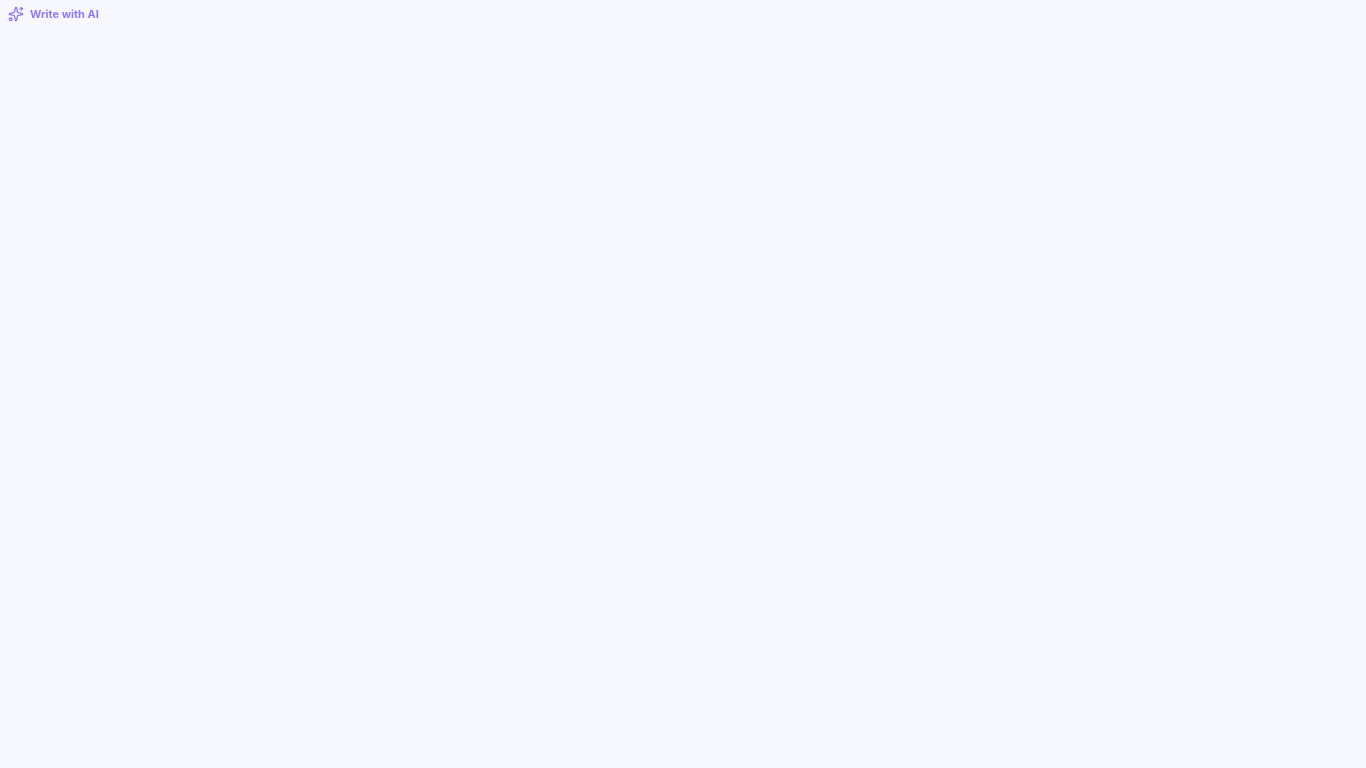
CreatorWritingAssist › previews and applies generated writing
Later steps or results of the test are not shown.
Click the button "Write with AI": {"x": 53, "y": 14} x1=0 y1=0 x2=107 y2=28
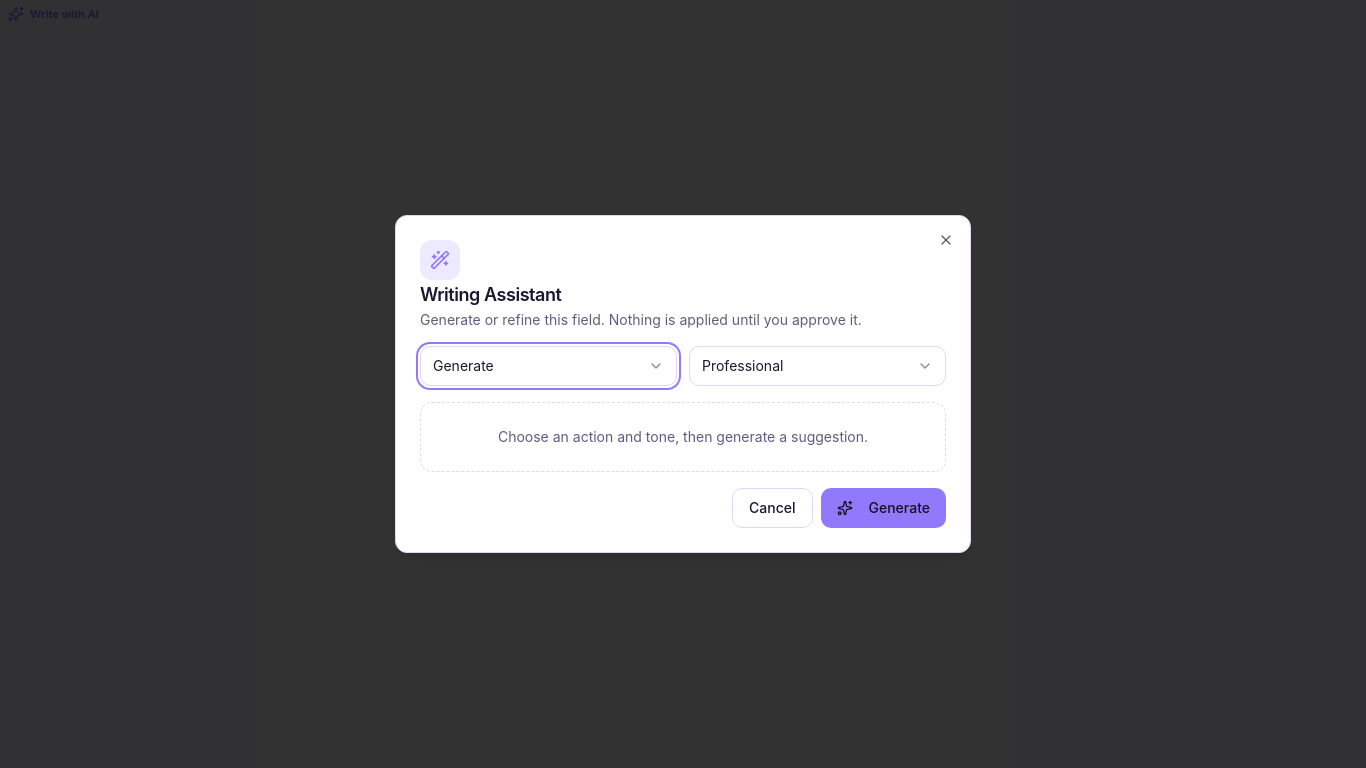
Click the button "Generate": {"x": 883, "y": 508} x1=820 y1=488 x2=946 y2=528
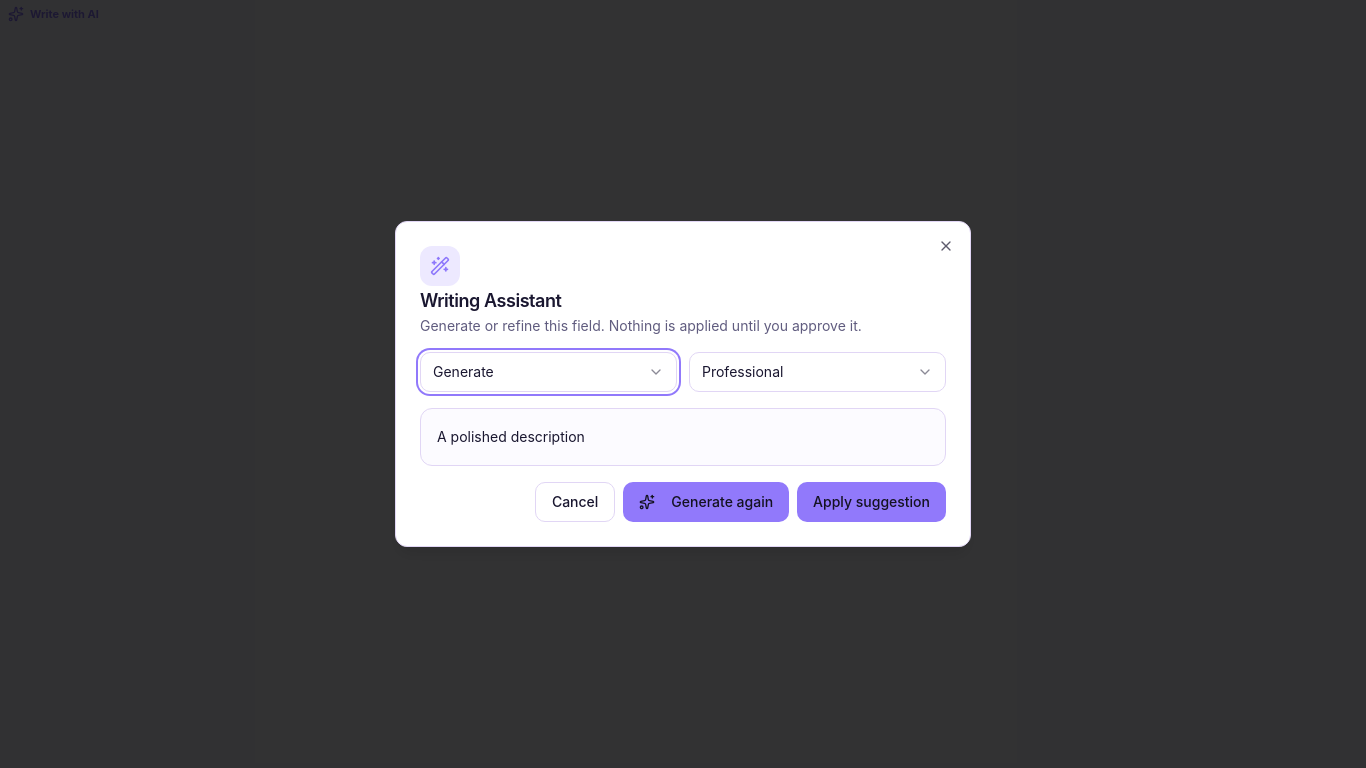
Now the text "A polished description" is shown, box x1=420 y1=408 x2=946 y2=466
